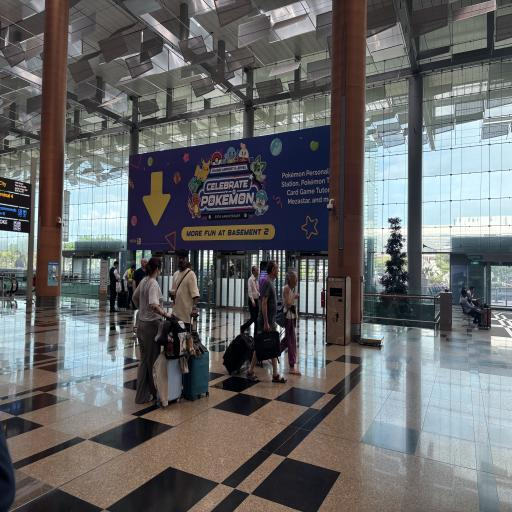person_with_luggage_right: (234, 258, 282, 385)
